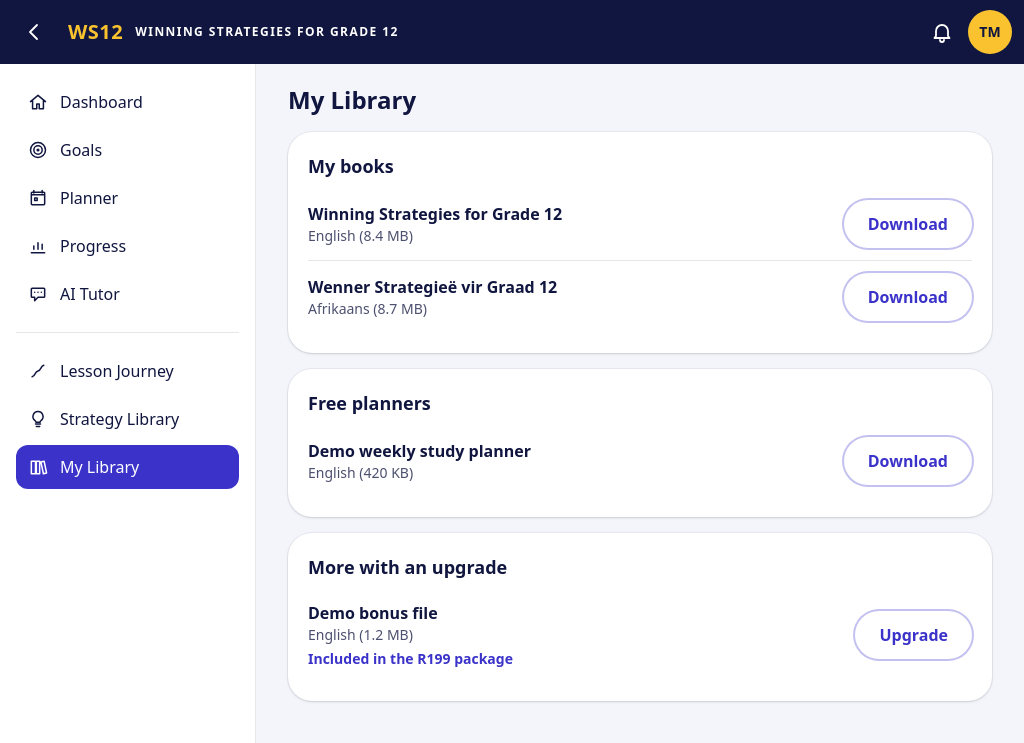
Test: My Library › shows the purchase reference and Contact support when the entitlement check fails
Click the button with aria-label "Download Winning Strategies for Grade 12" at coordinates (908, 224), box [844,200,972,248]
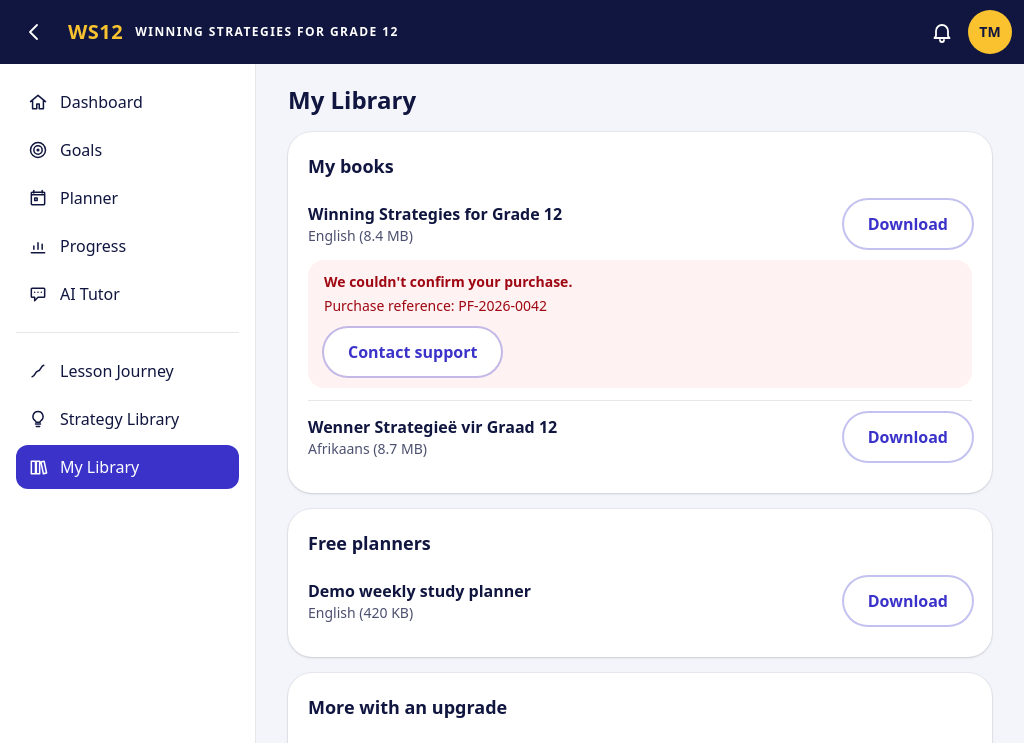
Result: the message shows "We couldn't confirm your purchase." at [324,272,572,291]
Result: the message shows "Purchase reference: PF-2026-0042" at [324,296,547,315]
Result: the link "Contact support" is shown at [324,328,501,376]
